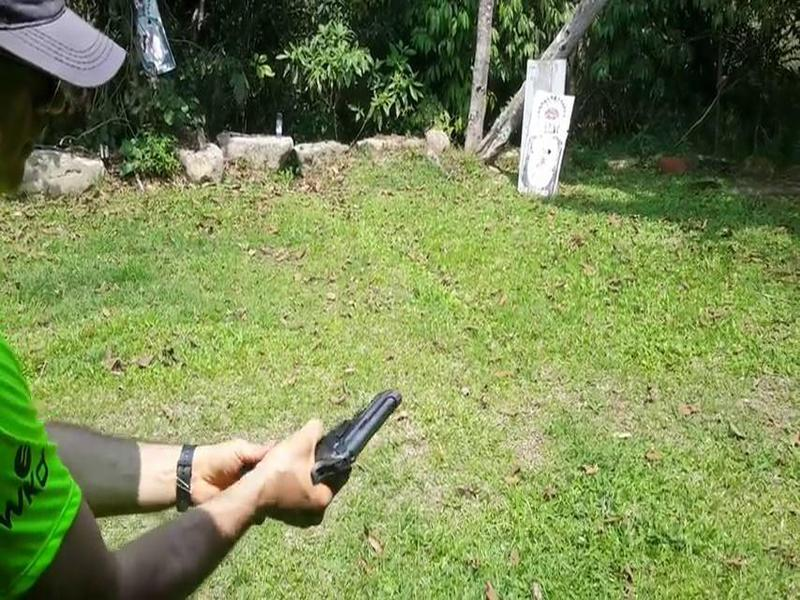Pistola: (306, 381, 407, 500)
